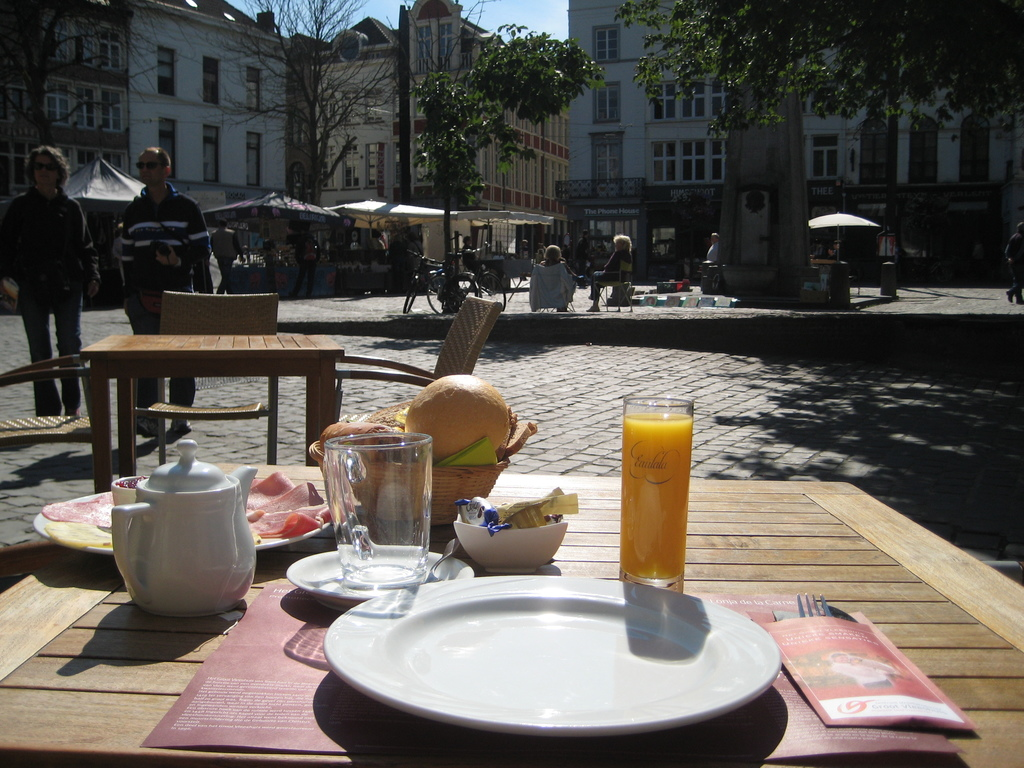plate: (332, 580, 769, 737)
